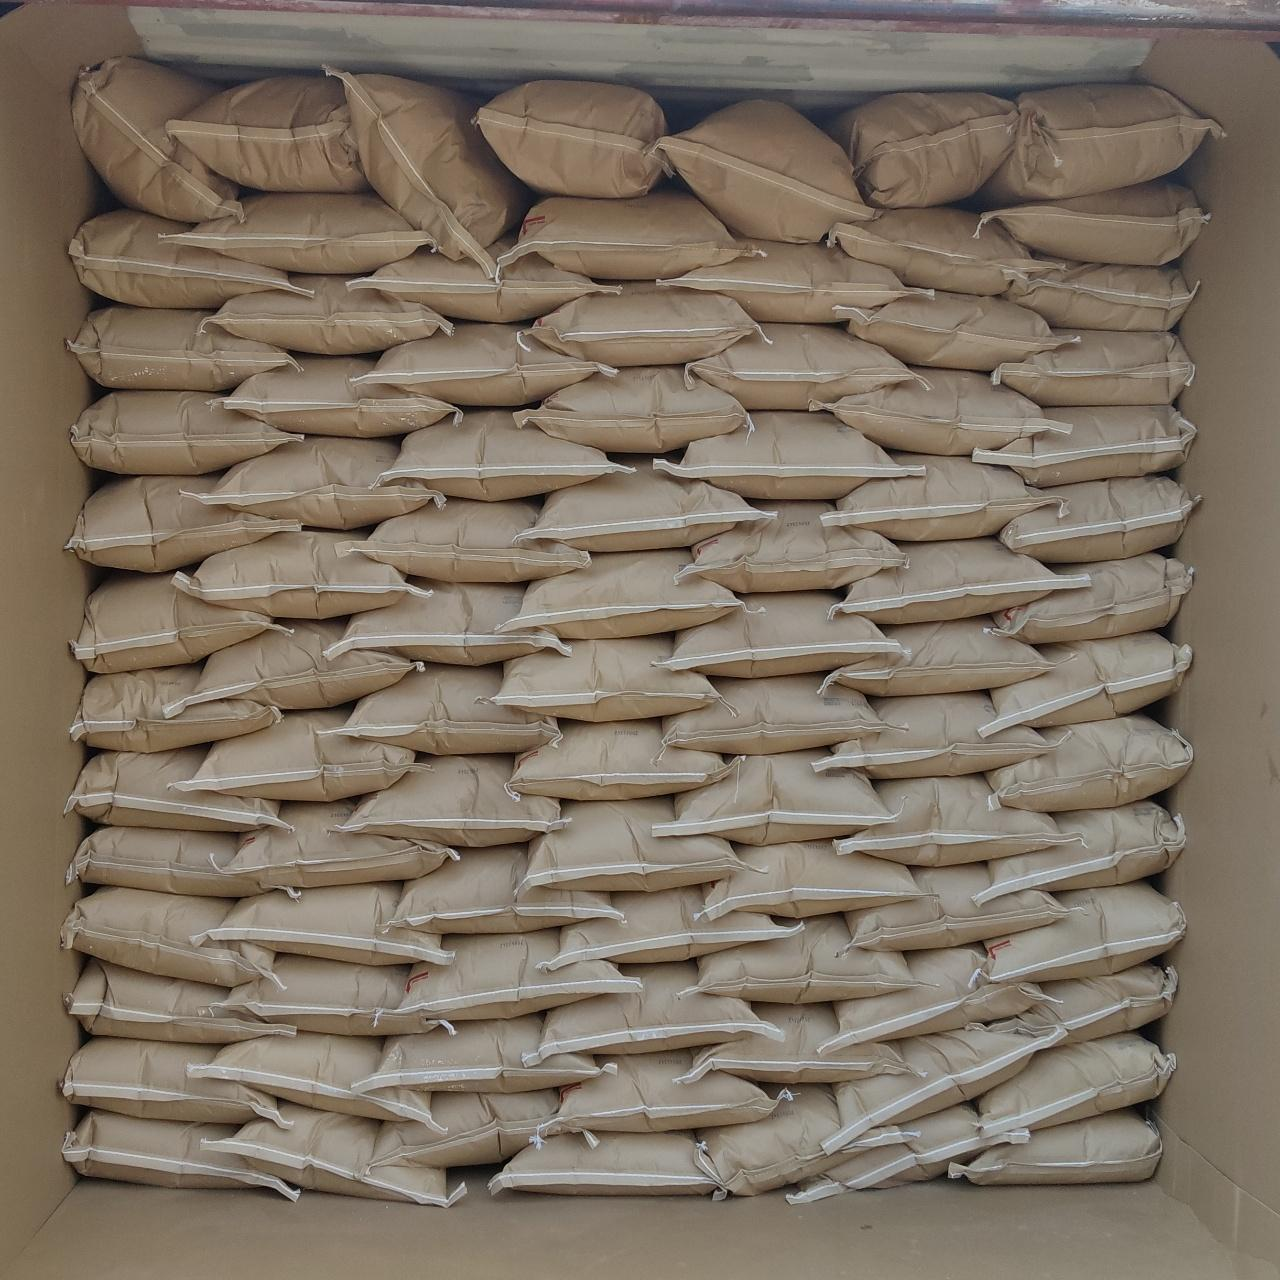sack: (324, 64, 525, 277), (656, 100, 872, 238), (978, 86, 1220, 204), (74, 57, 238, 222), (826, 1026, 1039, 1150), (216, 1104, 459, 1206), (697, 1085, 917, 1194), (166, 74, 367, 191), (656, 411, 924, 498), (790, 1104, 1028, 1200), (190, 1032, 434, 1124), (399, 930, 640, 1022), (658, 241, 932, 322), (502, 190, 754, 278), (478, 80, 666, 196), (526, 459, 765, 550), (830, 946, 1046, 1046), (813, 368, 1064, 454), (66, 476, 297, 568), (202, 438, 444, 526), (540, 888, 798, 971), (978, 634, 1190, 734), (654, 753, 894, 840), (826, 94, 1014, 206), (70, 210, 290, 306), (181, 708, 414, 798), (518, 798, 742, 892), (188, 620, 420, 710), (195, 881, 448, 964), (536, 964, 765, 1054), (356, 324, 612, 404), (74, 572, 284, 670), (338, 756, 566, 846), (62, 1110, 297, 1198), (978, 881, 1182, 982), (384, 846, 617, 934), (178, 530, 418, 614), (229, 799, 456, 888), (510, 550, 740, 638), (382, 410, 618, 496), (826, 454, 1058, 540), (838, 540, 1082, 622), (164, 195, 430, 270), (62, 888, 272, 983), (838, 776, 1070, 862), (348, 498, 590, 580), (986, 714, 1190, 810), (516, 368, 748, 452), (324, 583, 568, 662), (331, 666, 556, 753), (215, 356, 458, 436), (980, 802, 1182, 898), (846, 864, 1073, 949), (816, 694, 1051, 776), (526, 284, 764, 365), (356, 1014, 608, 1090), (220, 954, 454, 1036), (66, 958, 292, 1042), (680, 504, 903, 590), (62, 1039, 284, 1124), (982, 178, 1206, 263), (688, 324, 912, 408), (544, 1050, 774, 1132), (202, 275, 452, 350), (663, 594, 892, 676), (978, 1032, 1175, 1126), (68, 745, 290, 830), (826, 207, 1040, 294), (68, 306, 292, 388), (690, 914, 910, 998), (844, 292, 1076, 370), (72, 392, 302, 470), (348, 250, 614, 318), (493, 636, 714, 719), (821, 618, 1054, 694), (372, 1089, 598, 1167), (680, 1005, 908, 1082), (72, 666, 280, 750), (512, 720, 736, 798), (992, 554, 1190, 642), (976, 406, 1194, 484), (663, 676, 878, 754), (1002, 476, 1196, 561), (70, 826, 298, 898), (702, 842, 915, 918), (949, 1108, 1158, 1182), (986, 964, 1175, 1044), (992, 331, 1194, 404), (490, 1132, 719, 1196), (1006, 263, 1198, 331)
